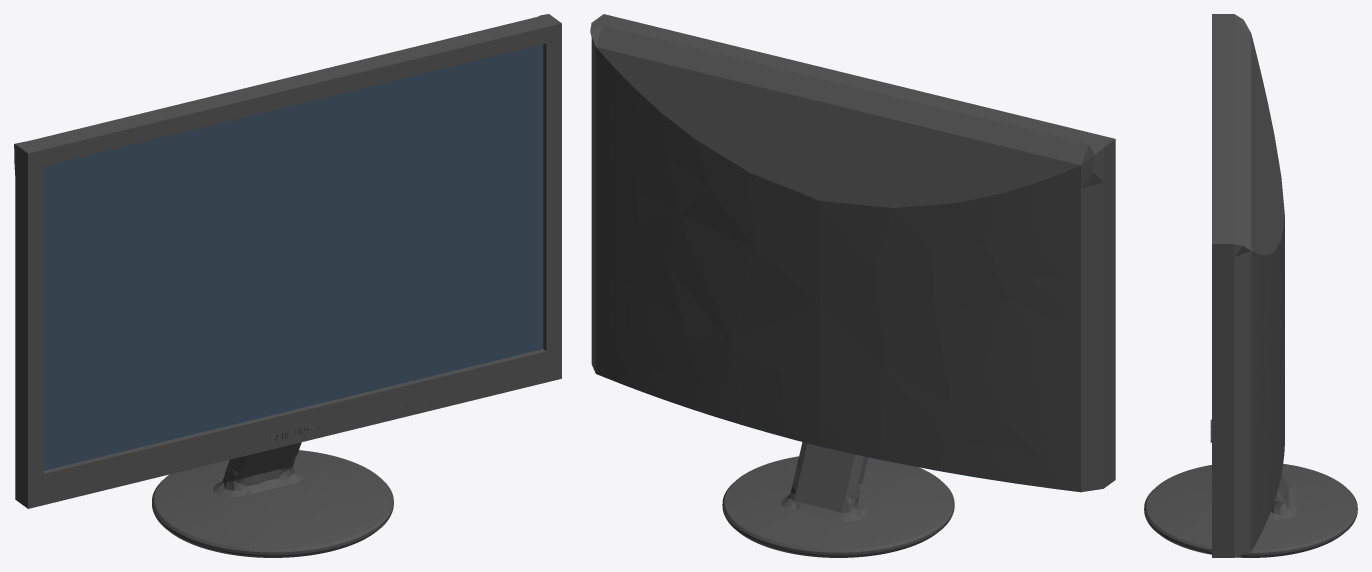
File: monitor.dae
The picture shows the model from 3 angles, left to right: view 1: azimuth 30°, elevation 25°; view 2: azimuth 150°, elevation 25°; view 3: azimuth 270°, elevation 25°; orthographic projection. The views are drawn at different scales.
Visible parts, largest first — view 1: Monitor; view 2: Monitor; view 3: Monitor.
Part boxes in pixels (left/top/right/bottom): Monitor: left=14, top=14, right=561, bottom=557; Monitor: left=590, top=14, right=1115, bottom=557; Monitor: left=1144, top=14, right=1357, bottom=557.
Size of the model in its own units: 0.484 by 0.19 by 0.378.
1 material, 1 textured.
